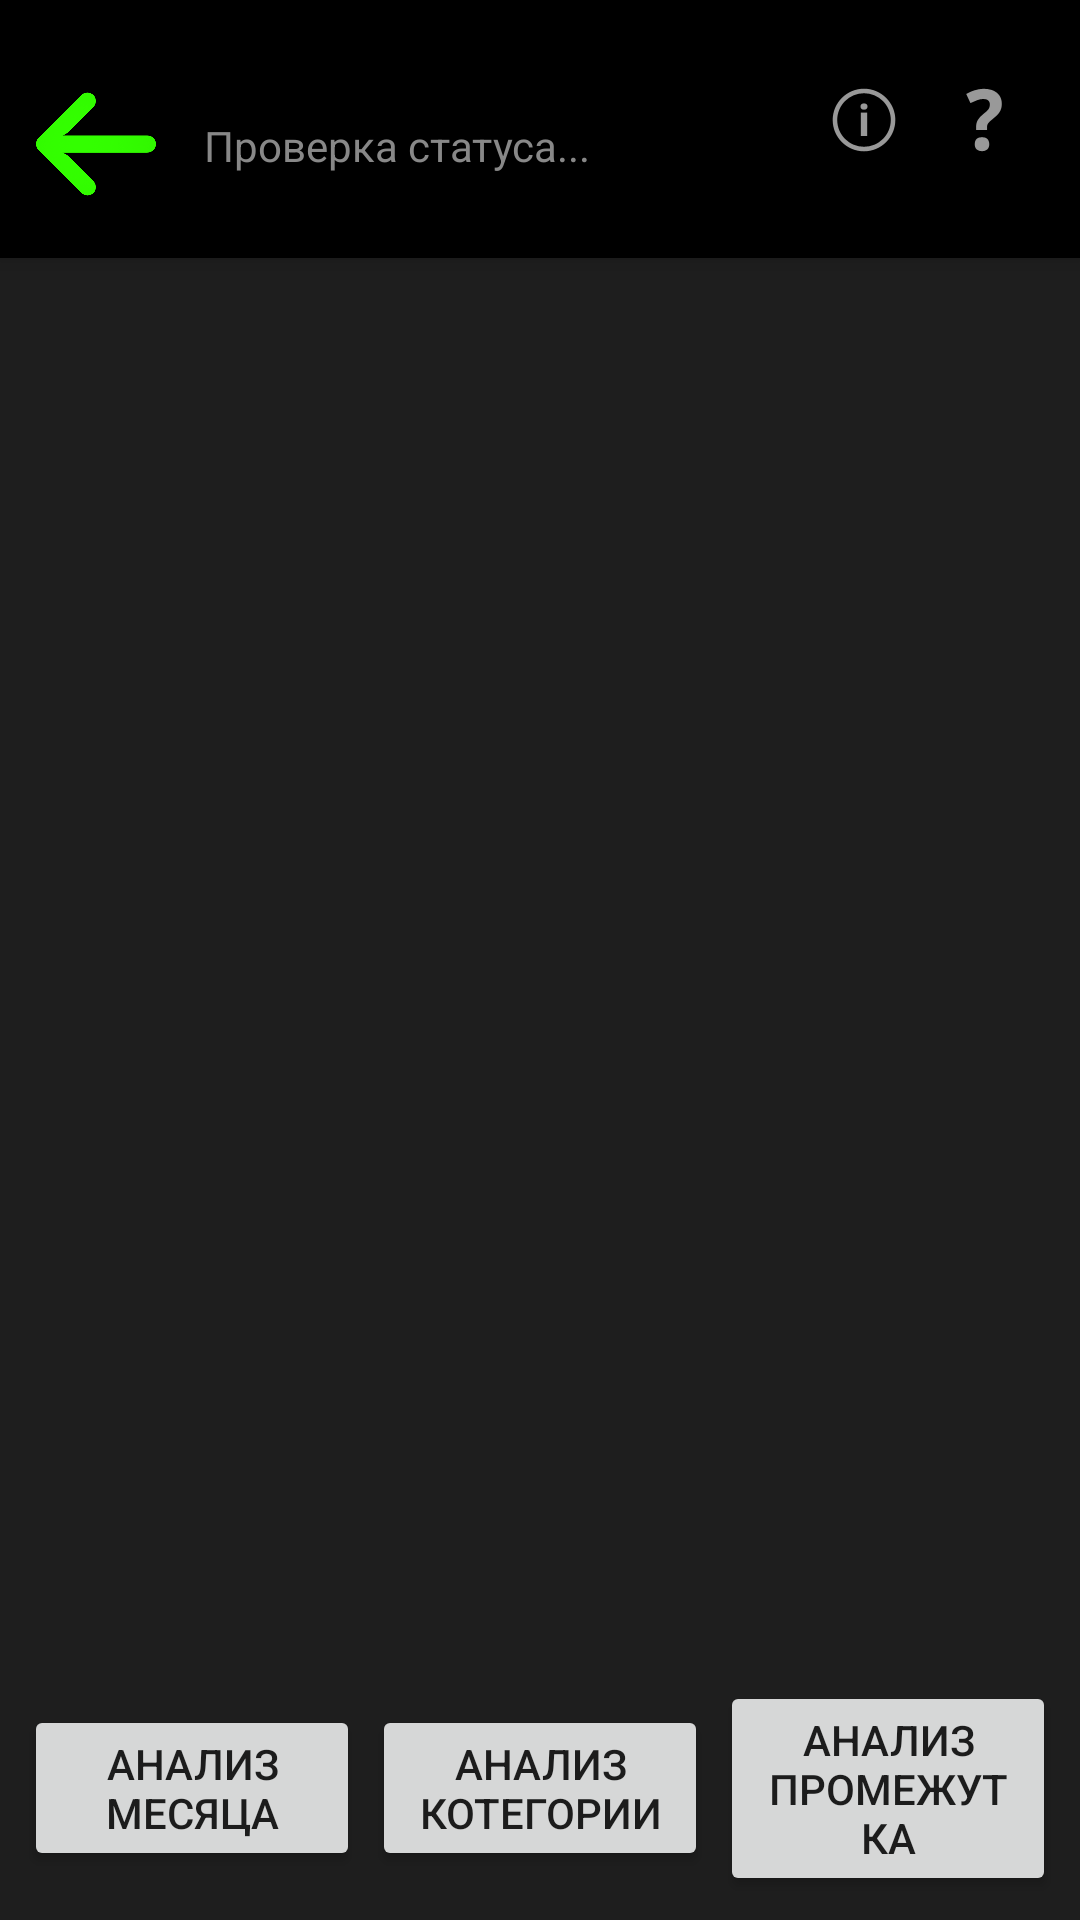

Screen size 1080x1920. Icon name, then its center in pixels as (x,y):
Back: (96,144)
help: (984,120)
info details: (864,120)
